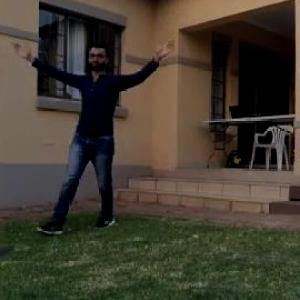takeoff: (29, 47, 189, 226)
